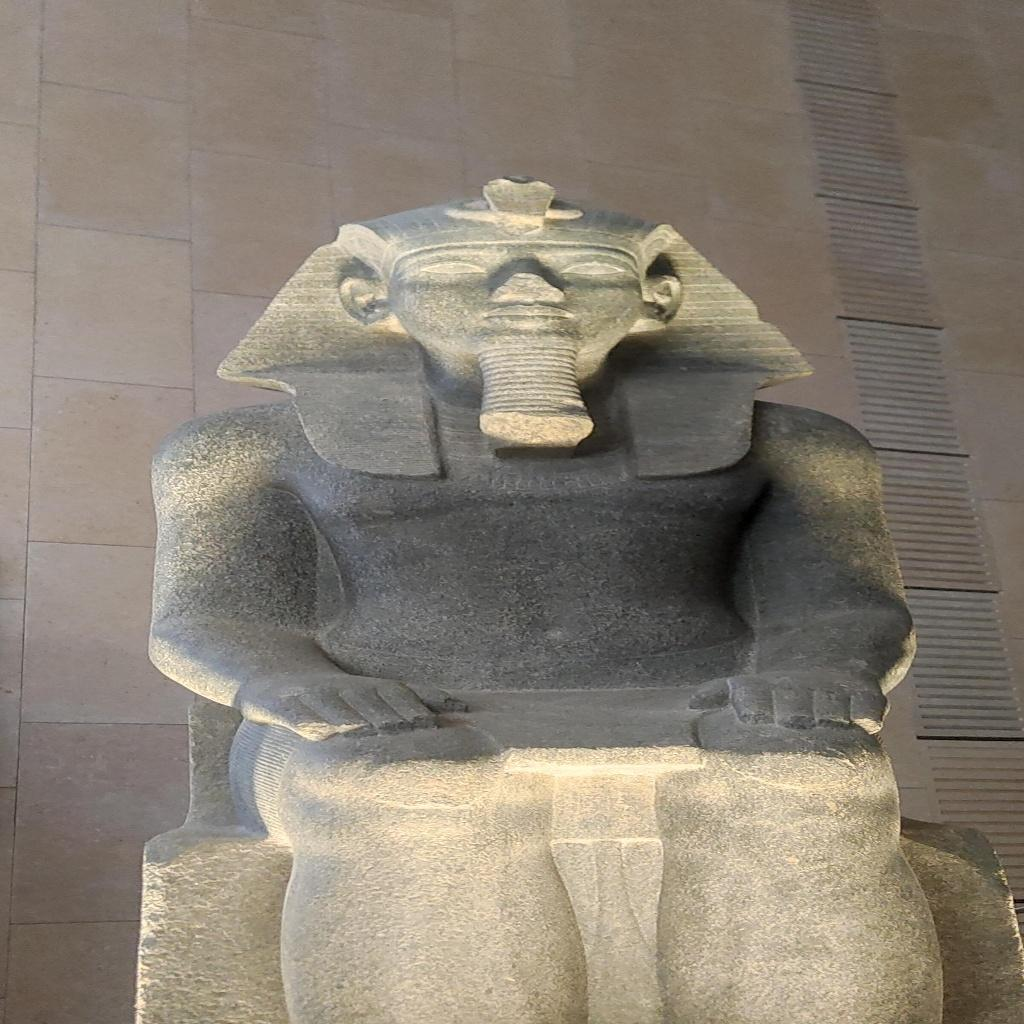Seated Statue of Amenhotep III: (138, 172, 959, 1020)
